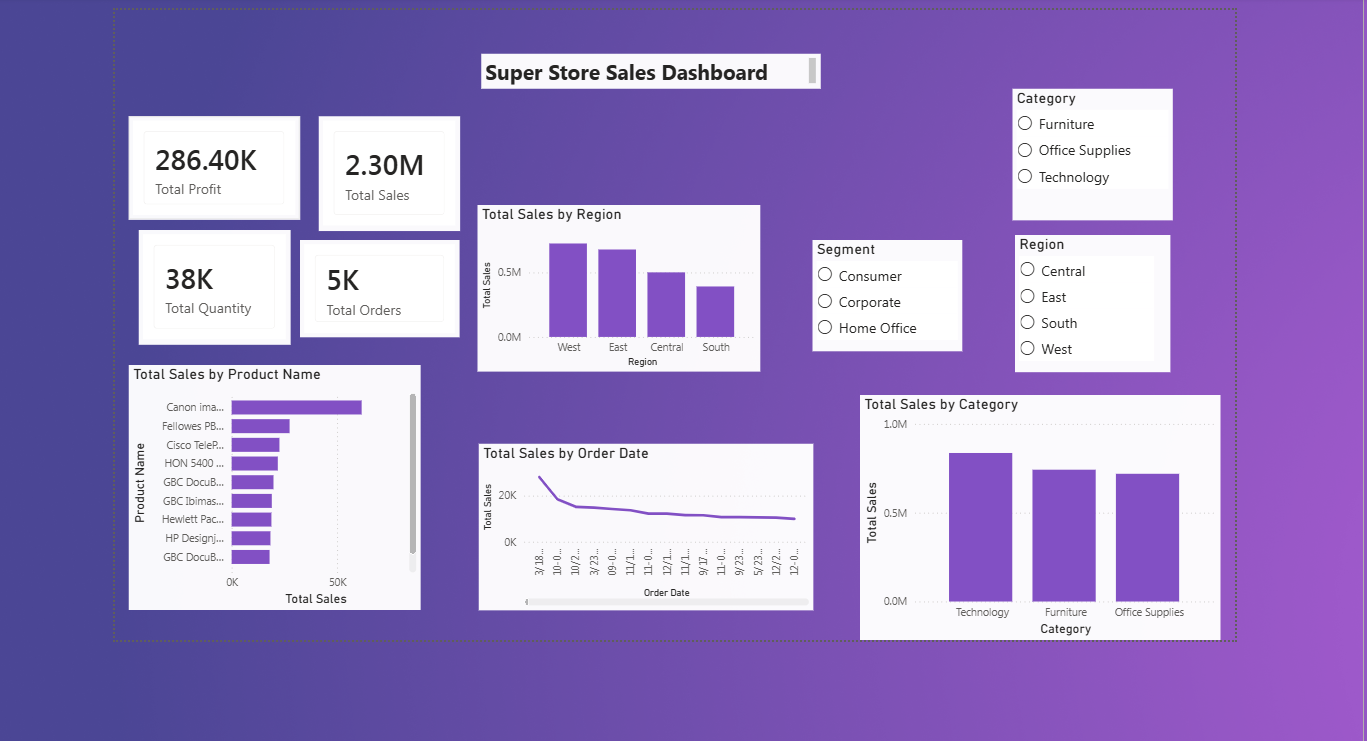

This screenshot's page, from the dashboard's own definition file:
{"tool":"powerbi","page":{"name":"Page 1","canvas":[1280,720],"ordinal":0},"visuals":[{"type":"cardVisual","fields":{"Data":["Sample - Superstore.Total Profit"]},"box":[15.9,121.1,195.7,118.6],"z":1000},{"type":"cardVisual","fields":{"Data":["Sample - Superstore.Total Quantity"]},"box":[26.9,251.9,173.6,130.8],"z":2000},{"type":"cardVisual","fields":{"Data":["Sample - Superstore.Total Sales"]},"box":[232.3,121.1,161.4,130.8],"z":3000},{"type":"cardVisual","fields":{"Data":["Sample - Superstore.Total Orders"]},"box":[211.6,262.9,182.2,111.3],"z":4000},{"type":"clusteredColumnChart","fields":{"Category":["Sample - Superstore.Category"],"Y":["Sample - Superstore.Total Sales"]},"box":[851.1,440.2,412.1,280],"z":5000},{"type":"clusteredColumnChart","fields":{"Category":["Sample - Superstore.Region"],"Y":["Sample - Superstore.Total Sales"]},"box":[414.5,222.6,322.8,190.8],"z":6000},{"type":"clusteredBarChart","fields":{"Category":["Sample - Superstore.Product Name"],"Y":["Sample - Superstore.Total Sales"]},"box":[16.2,405,333.8,280],"z":7000},{"type":"listSlicer","fields":{"Values":["Sample - Superstore.Region"]},"box":[1028.4,256.8,177.3,156.5],"z":8000},{"type":"listSlicer","fields":{"Values":["Sample - Superstore.Category"]},"box":[1026,90.5,183.4,150.4],"z":9000},{"type":"listSlicer","fields":{"Values":["Sample - Superstore.Segment"]},"box":[797.3,262.9,171.2,127.2],"z":10000},{"type":"lineChart","fields":{"Category":["Sample - Superstore.Order Date"],"Y":["Sample - Superstore.Total Sales"]},"box":[415,495,382.5,190],"z":11000},{"type":"textbox","box":[418.2,50.1,387.6,40.4],"z":13000}]}

Visuals, with their boxes on the page's 1280x720 design canvas (x1, y1, x2, y2). These are canvas units, not pixel positions in the 1367x741 screenshot, which may show the page scaled, cropped or inside an application window:
cardVisual - Sample - Superstore.Total Profit: Rect(16, 121, 212, 240)
cardVisual - Sample - Superstore.Total Quantity: Rect(27, 252, 200, 383)
cardVisual - Sample - Superstore.Total Sales: Rect(232, 121, 394, 252)
cardVisual - Sample - Superstore.Total Orders: Rect(212, 263, 394, 374)
clusteredColumnChart - Sample - Superstore.Category x Sample - Superstore.Total Sales: Rect(851, 440, 1263, 720)
clusteredColumnChart - Sample - Superstore.Region x Sample - Superstore.Total Sales: Rect(414, 223, 737, 413)
clusteredBarChart - Sample - Superstore.Product Name x Sample - Superstore.Total Sales: Rect(16, 405, 350, 685)
listSlicer - Sample - Superstore.Region: Rect(1028, 257, 1206, 413)
listSlicer - Sample - Superstore.Category: Rect(1026, 90, 1209, 241)
listSlicer - Sample - Superstore.Segment: Rect(797, 263, 968, 390)
lineChart - Sample - Superstore.Order Date x Sample - Superstore.Total Sales: Rect(415, 495, 798, 685)
textbox: Rect(418, 50, 806, 90)
